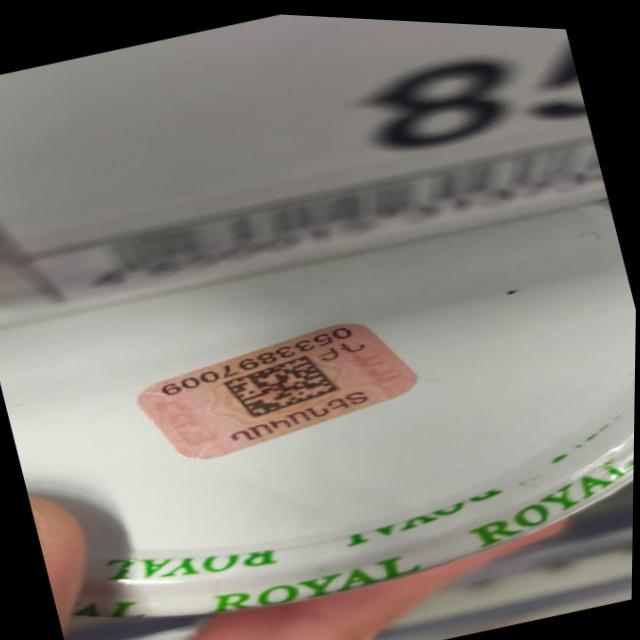datamatrix: (221, 340, 348, 427)
